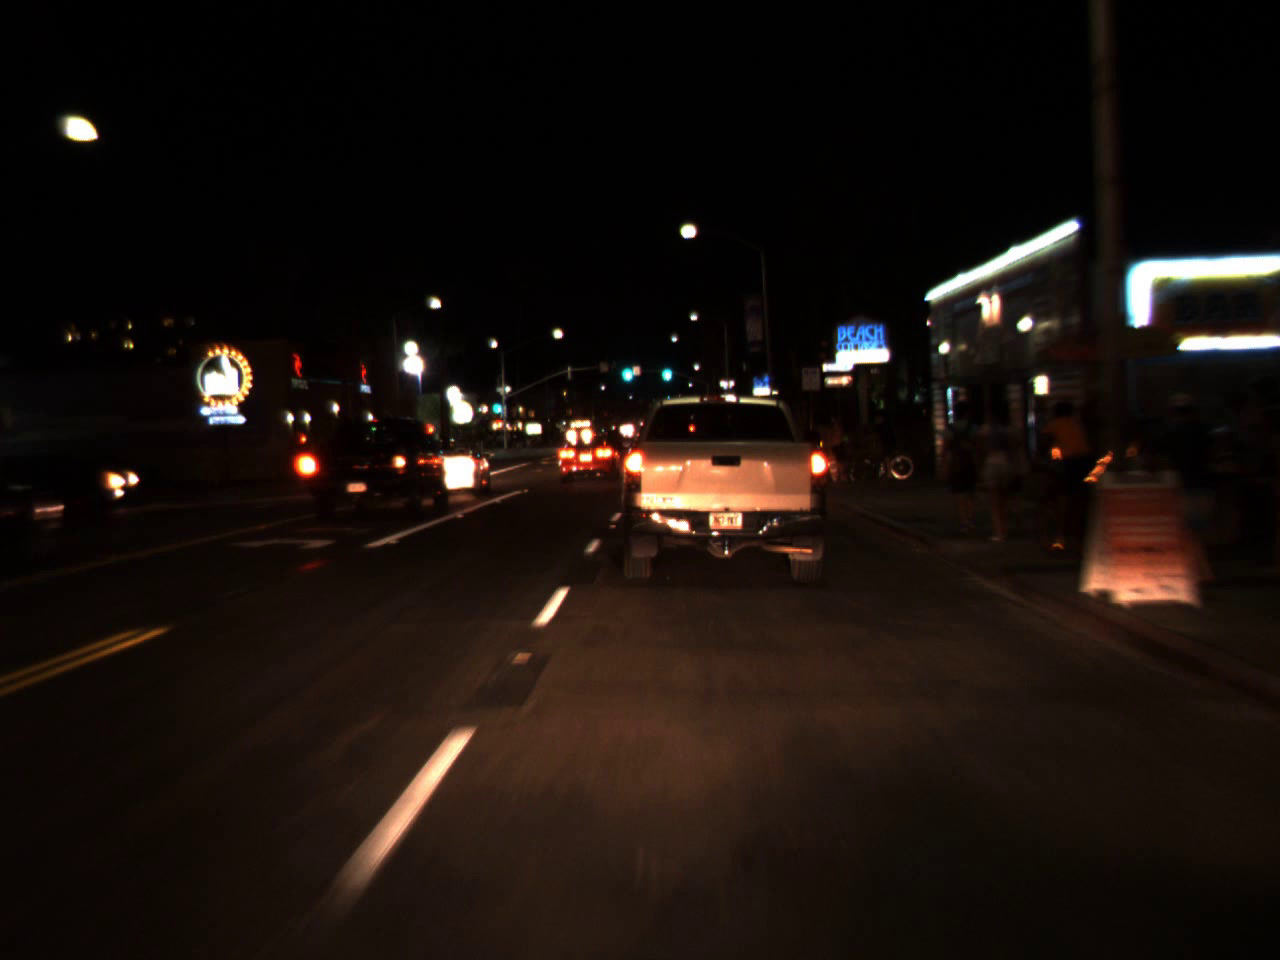go: (617, 352, 636, 385), (657, 355, 673, 385), (491, 390, 501, 417)
